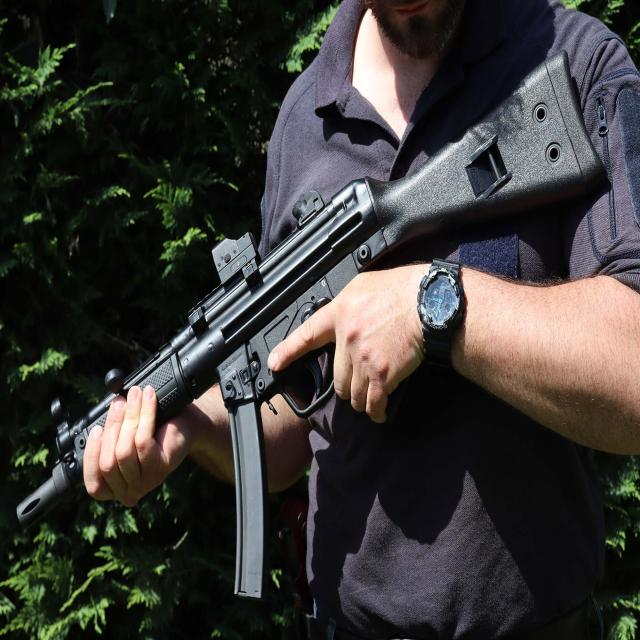SMG: (16, 53, 605, 602)
